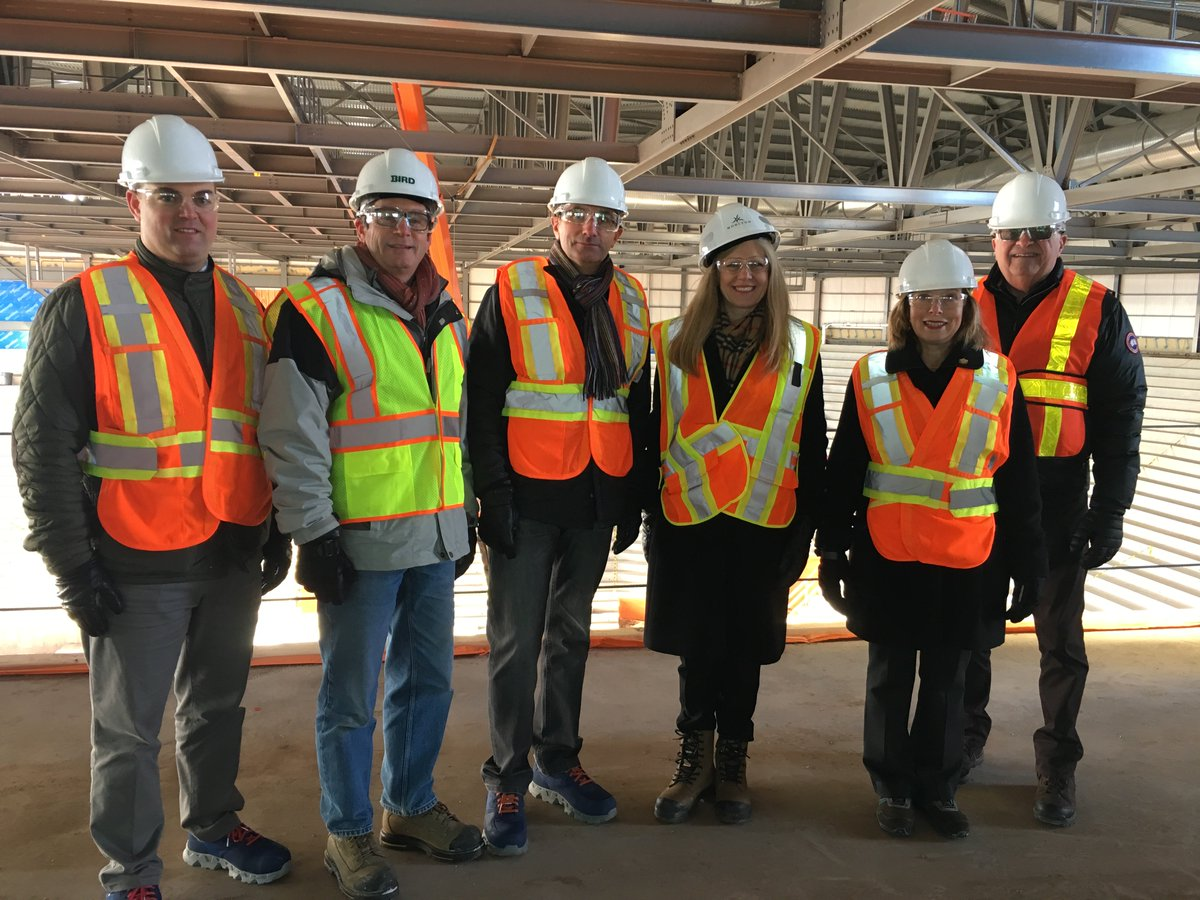Helmet: (110, 108, 246, 283), (336, 146, 458, 285), (689, 193, 800, 334), (881, 232, 985, 369), (543, 152, 641, 292), (984, 168, 1081, 296)
Reflective vest: (57, 246, 278, 563), (266, 271, 473, 528), (646, 309, 822, 531), (845, 347, 1020, 568), (489, 253, 658, 481), (967, 268, 1120, 470)
